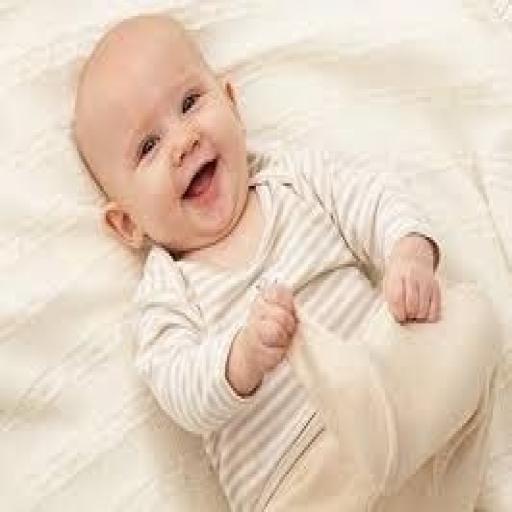laughing: (58, 6, 504, 510)
